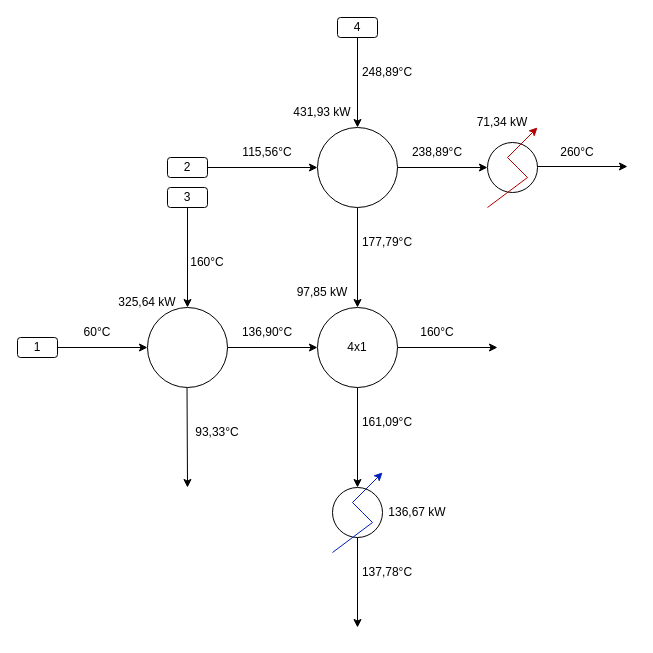
The diagram is 653 pixels wide and 653 high, and some of its shapes have lost their labels. The shapes that lost their labels are listed below. From the top down, each one's centre as x and y in pixels, then its label:
point 357,167: 4x2
point 187,347: 3x1
